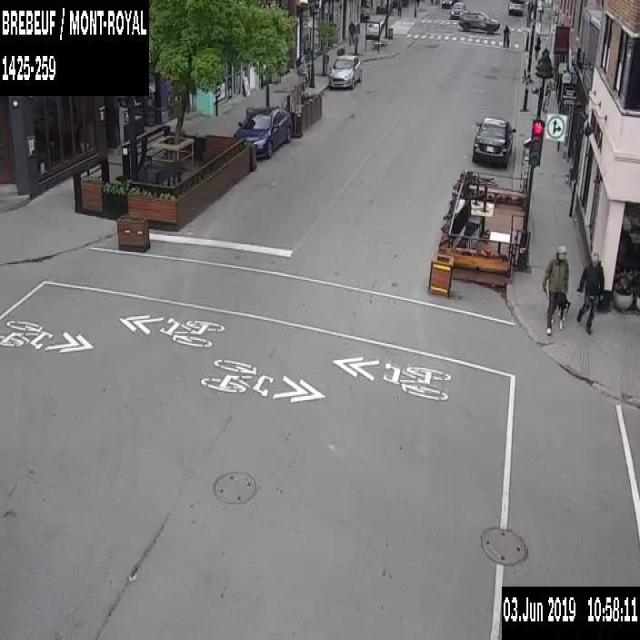pedestrian: (542, 244, 569, 336), (575, 255, 603, 336), (296, 49, 306, 82), (502, 24, 510, 48), (348, 20, 355, 44), (354, 20, 360, 44), (534, 33, 539, 59)
vehicle: (232, 105, 292, 155), (471, 113, 515, 164), (327, 53, 362, 87), (460, 10, 500, 32), (508, 0, 526, 15), (450, 1, 465, 18), (441, 0, 458, 8)
